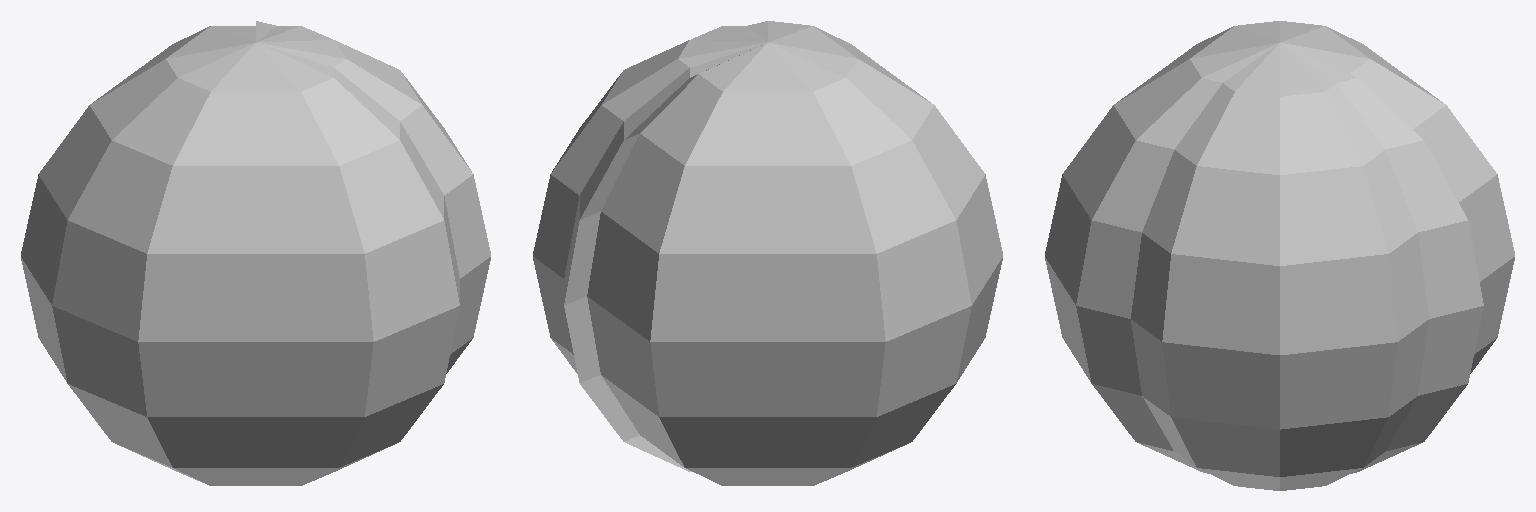
File: middle_size_sphere.obj
The picture shows the model from 3 angles: view 1: azimuth 30°, elevation 25°; view 2: azimuth 150°, elevation 25°; view 3: azimuth 270°, elevation 25°; orthographic projection.
Parts seen in each view (by area): view 1: Sphere_12x8; view 2: Sphere_12x8; view 3: Sphere_12x8.
Part boxes in pixels (x1,y1,x2,y2): Sphere_12x8: (21,21,490,485); Sphere_12x8: (533,21,1002,485); Sphere_12x8: (1045,21,1514,490).
Bounding box in the file's own units: 2 × 2 × 2.